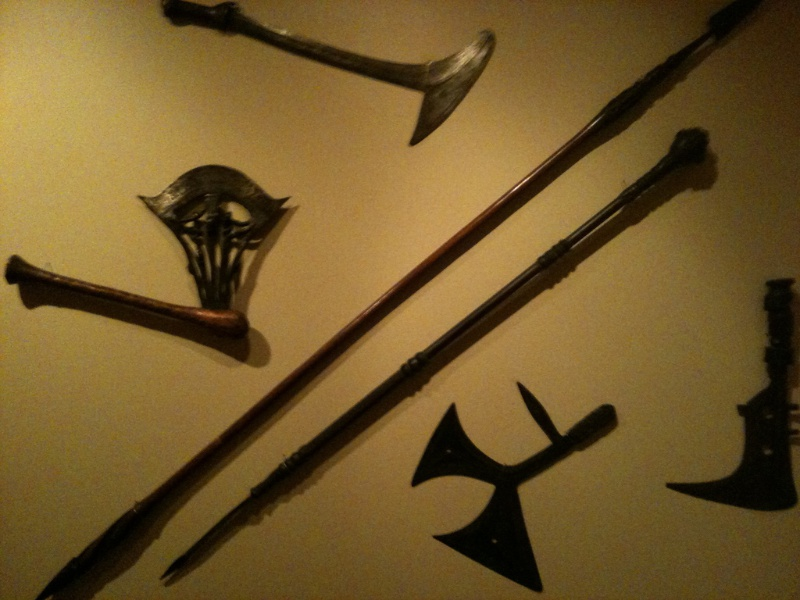axe: (2, 161, 291, 365)
